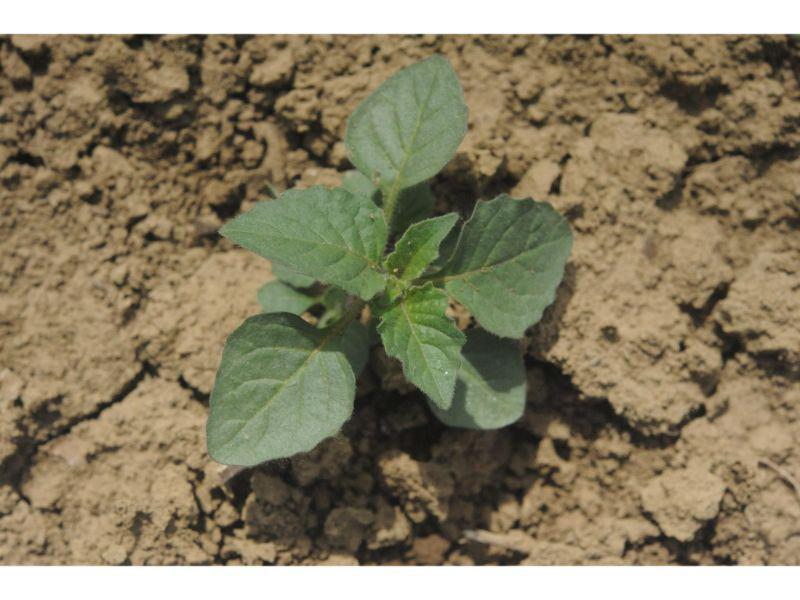nightshade: (207, 51, 576, 467)
